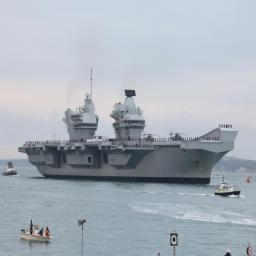Portanaves: (15, 74, 242, 183)
